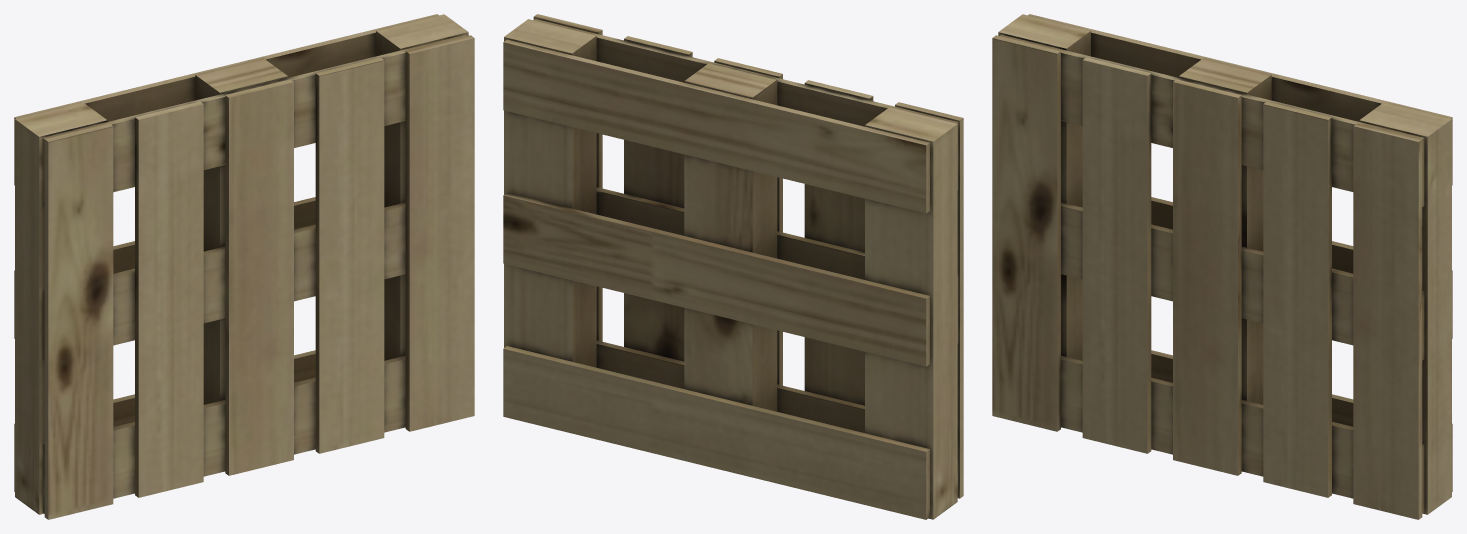
File: pallet.obj
3 renders of one model, left to right at view 1: azimuth 30°, elevation 25°; view 2: azimuth 150°, elevation 25°; view 3: azimuth 330°, elevation 25°, orthographic.
Visible parts, largest first — view 1: pallet0; view 2: pallet0; view 3: pallet0.
Boxes of the visible parts, x1,y1,x2,y2 form: pallet0: [14, 14, 474, 519]; pallet0: [503, 14, 963, 519]; pallet0: [992, 14, 1452, 519].
Size of the model in its own units: 132 by 111 by 19.
Materials: 1 (1 with a texture image).
